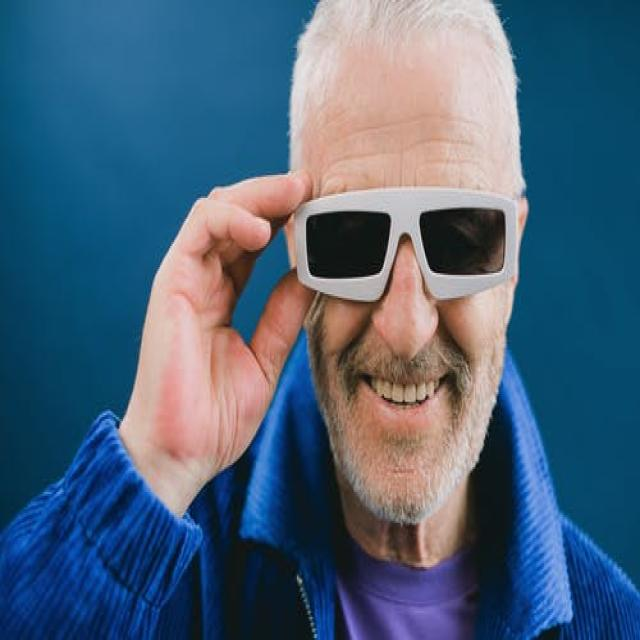Wrinkles: (320, 137, 481, 177), (332, 112, 483, 143), (424, 159, 485, 165), (384, 167, 387, 186), (400, 158, 402, 182), (415, 166, 417, 184)
